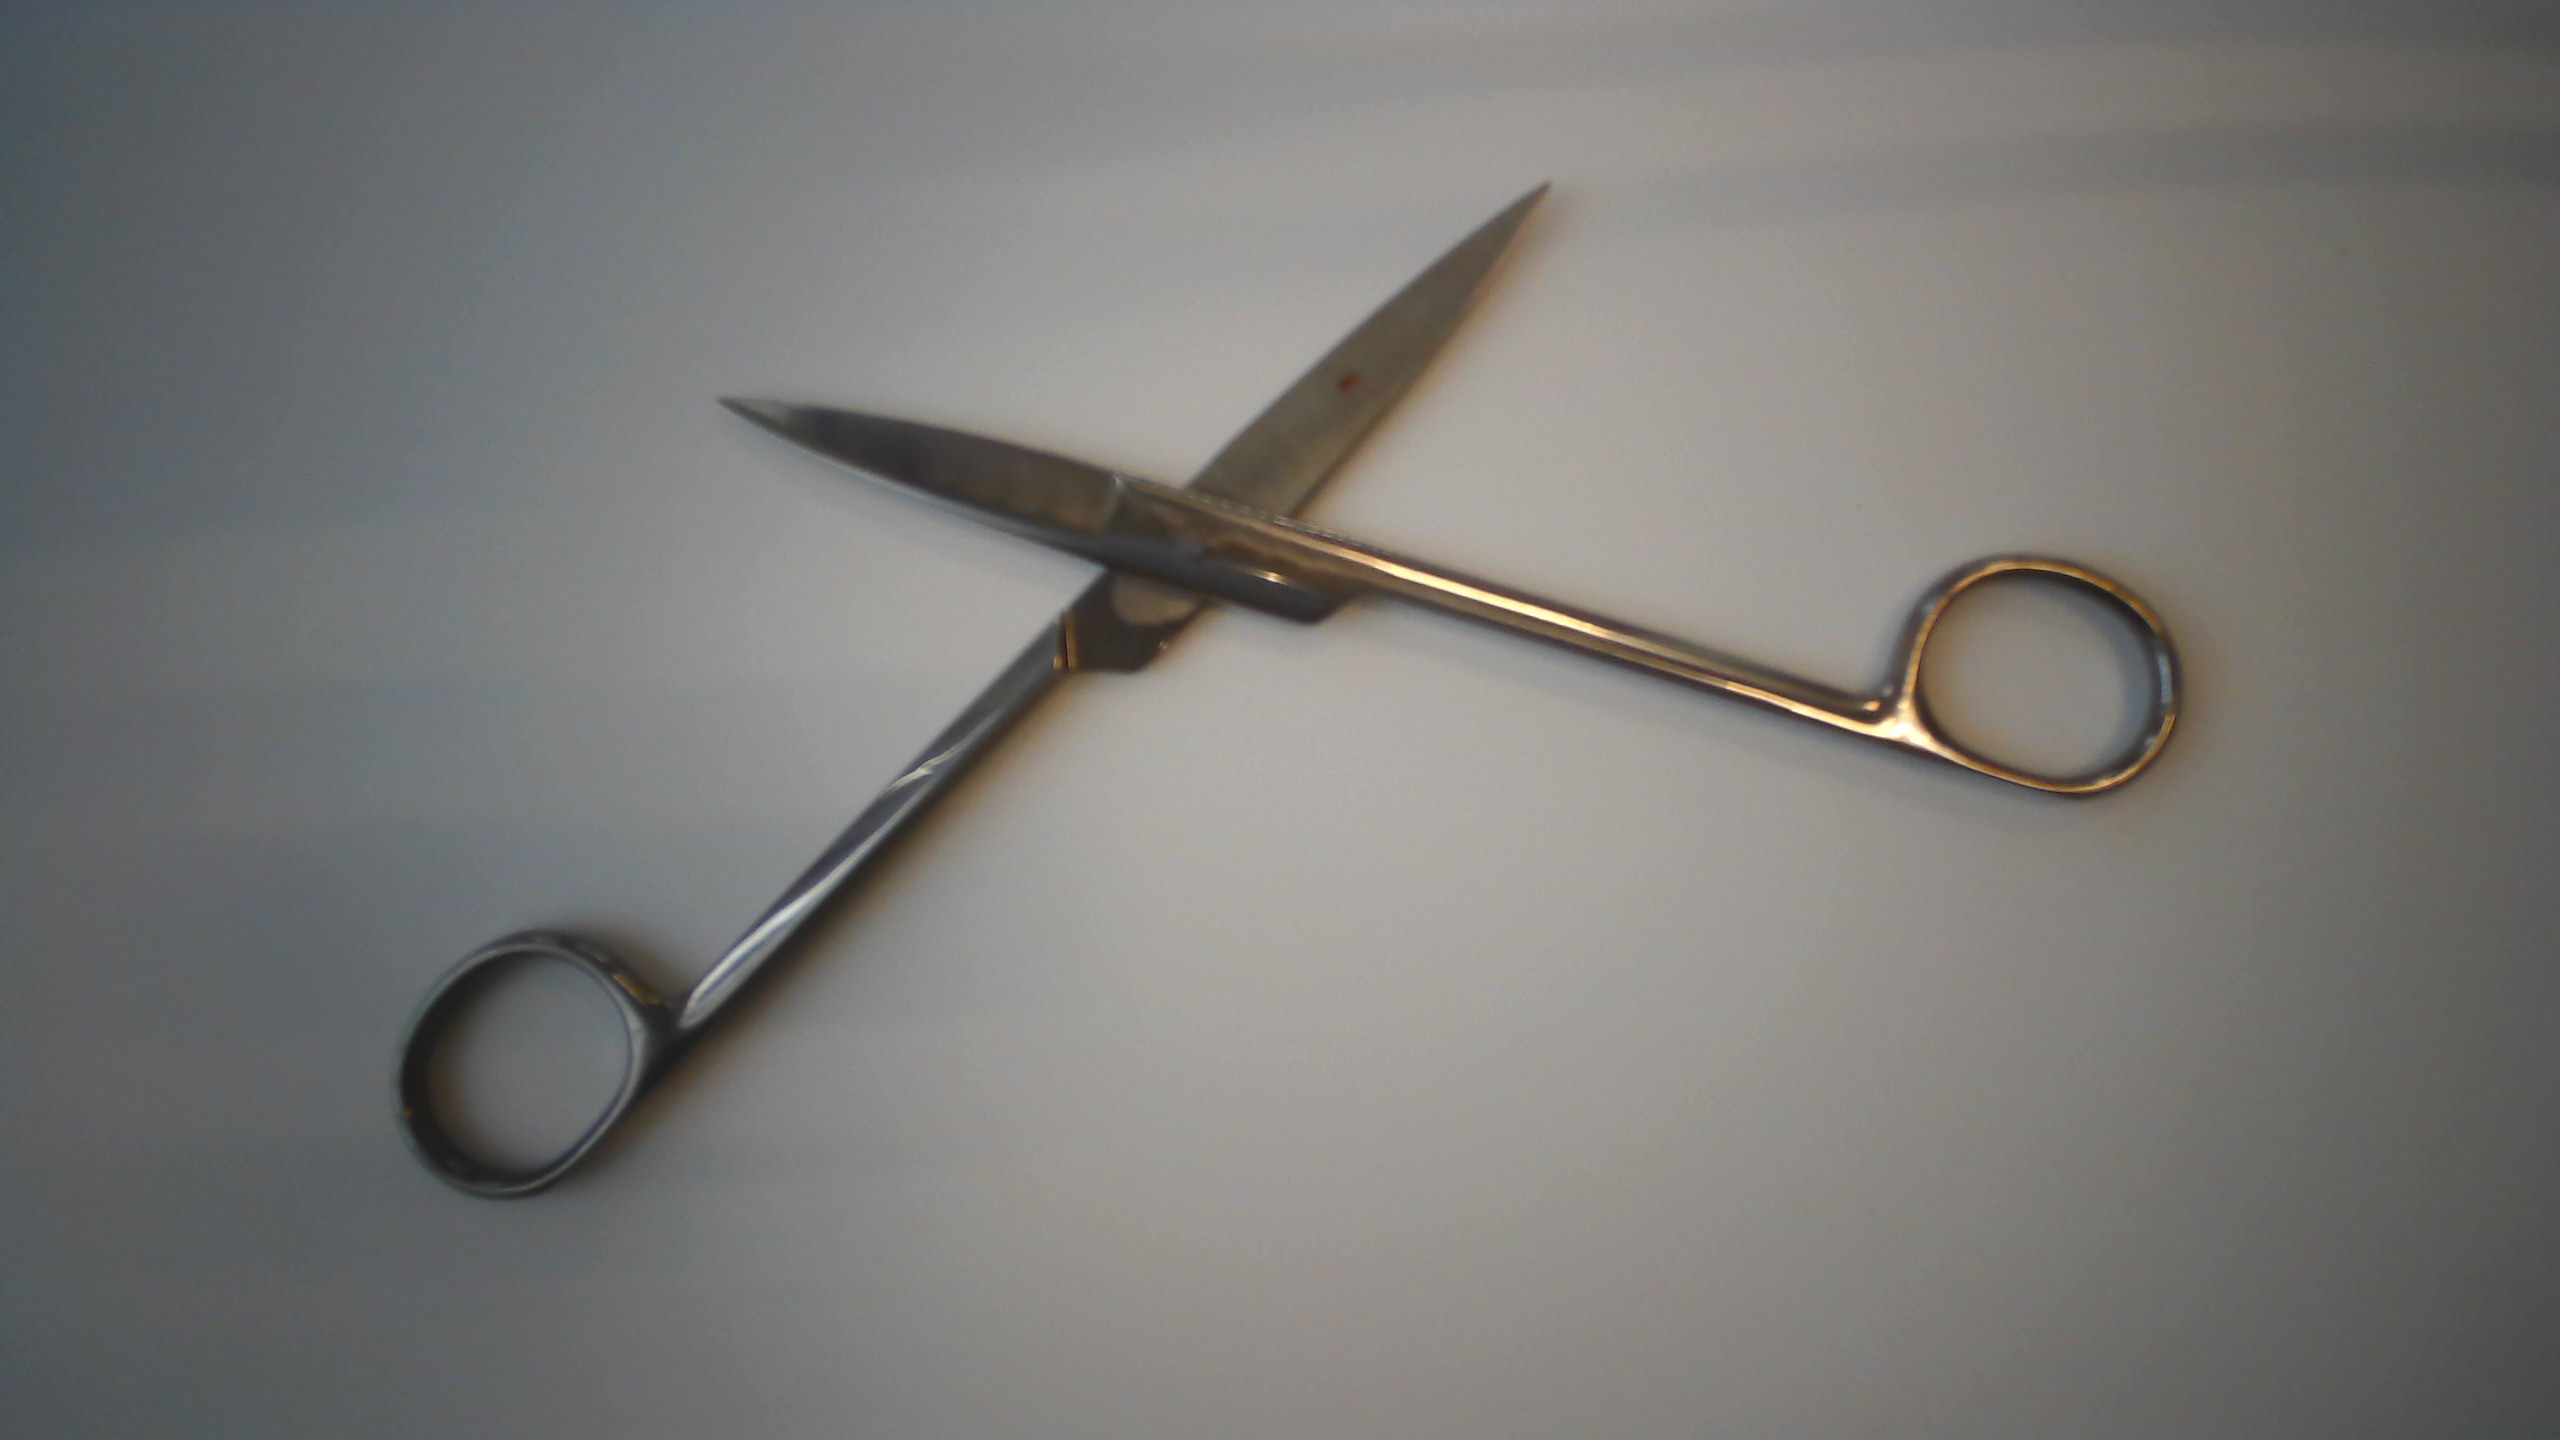Stain: (1324, 366, 1370, 396)
